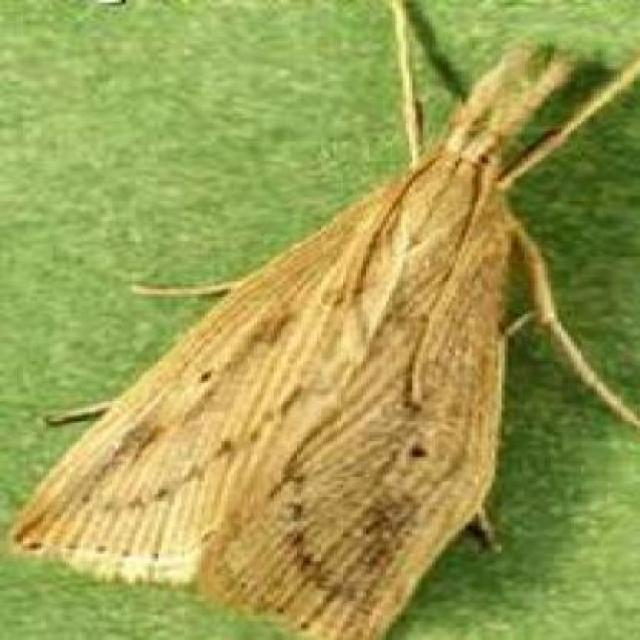stem-borer: (7, 17, 638, 640)
